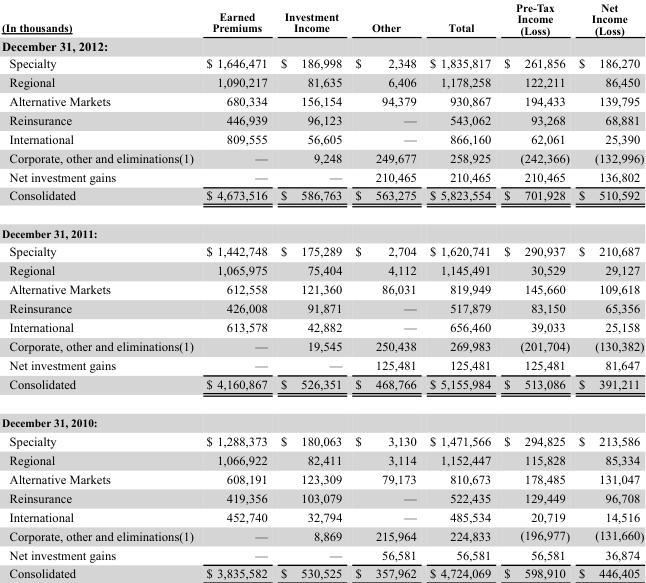table: (0, 0, 643, 580)
table column: (0, 0, 199, 580), (496, 0, 573, 580), (347, 0, 422, 580), (199, 0, 273, 580), (273, 0, 347, 580), (422, 0, 496, 580), (573, 0, 643, 580)
table column header: (0, 0, 643, 37)
table projected row header: (0, 403, 643, 431), (0, 214, 643, 241), (0, 37, 643, 54)
table row: (0, 0, 643, 37), (0, 185, 643, 214), (0, 374, 643, 403), (0, 403, 643, 431), (0, 214, 643, 241), (0, 72, 643, 91), (0, 91, 643, 110), (0, 110, 643, 129), (0, 129, 643, 148), (0, 148, 643, 167), (0, 241, 643, 260), (0, 260, 643, 279), (0, 279, 643, 298), (0, 298, 643, 317), (0, 317, 643, 336), (0, 336, 643, 355), (0, 355, 643, 374), (0, 431, 643, 450), (0, 450, 643, 469), (0, 487, 643, 506), (0, 506, 643, 525), (0, 525, 643, 544), (0, 544, 643, 563), (0, 54, 643, 72), (0, 167, 643, 185), (0, 469, 643, 487), (0, 37, 643, 54), (0, 563, 643, 580)
